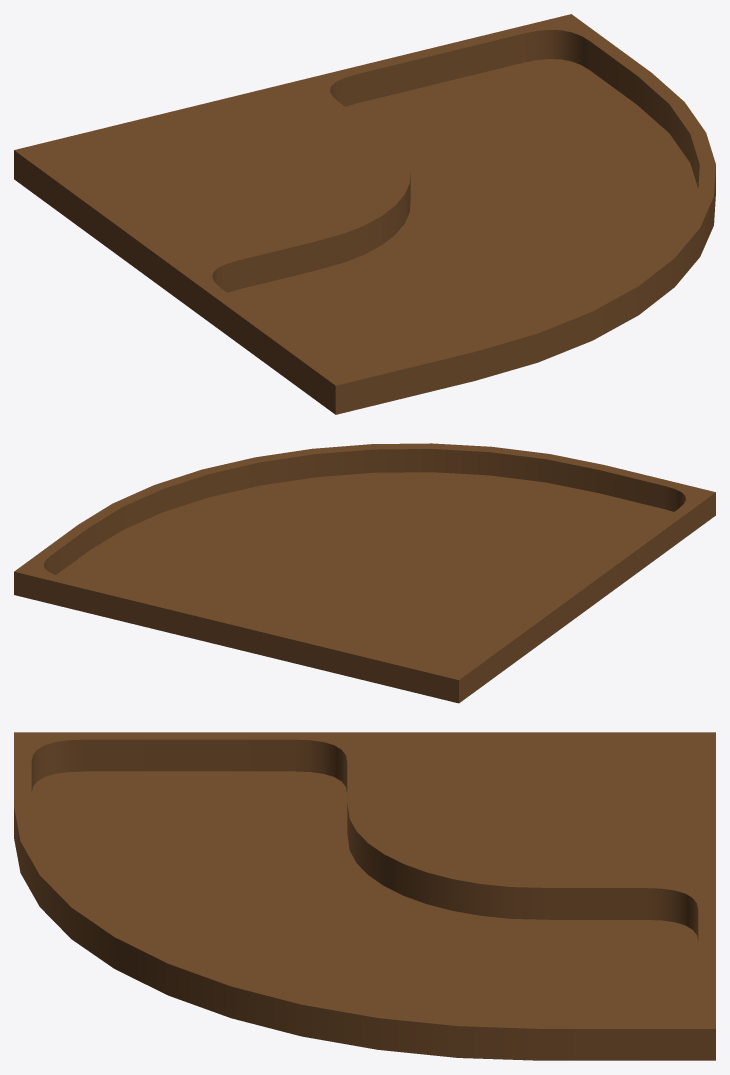
Rendered from Ceiling_B_1m_TurnIn.FBX.
3 views of the same model, one above another, from view 1: azimuth 30°, elevation 25°; view 2: azimuth 150°, elevation 25°; view 3: azimuth 270°, elevation 25° (orthographic). The views are drawn at different scales.
Parts seen in each view (by area): view 1: Ceiling_B_1m_TurnIn; view 2: Ceiling_B_1m_TurnIn; view 3: Ceiling_B_1m_TurnIn.
Part boxes in pixels (bbox=[...]): Ceiling_B_1m_TurnIn: bbox=[14, 14, 715, 414]; Ceiling_B_1m_TurnIn: bbox=[14, 443, 715, 703]; Ceiling_B_1m_TurnIn: bbox=[14, 732, 715, 1060].
Bounding box in the file's own units: 200 × 10 × 200.
